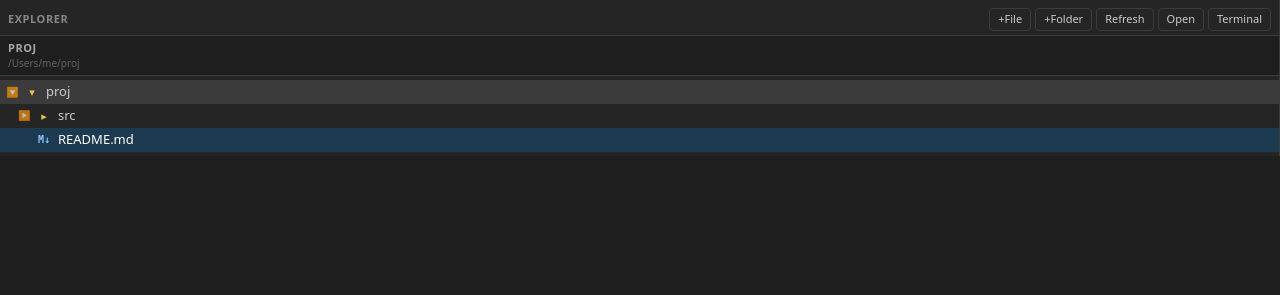
Sidebar create under selected folder + drag/drop › clicking a file selects its parent folder (so +File lands next to it)
The width and height of the screenshot is (1280, 295).
Click the element titled "proj/src" at (47, 115), box [18, 106, 76, 124]
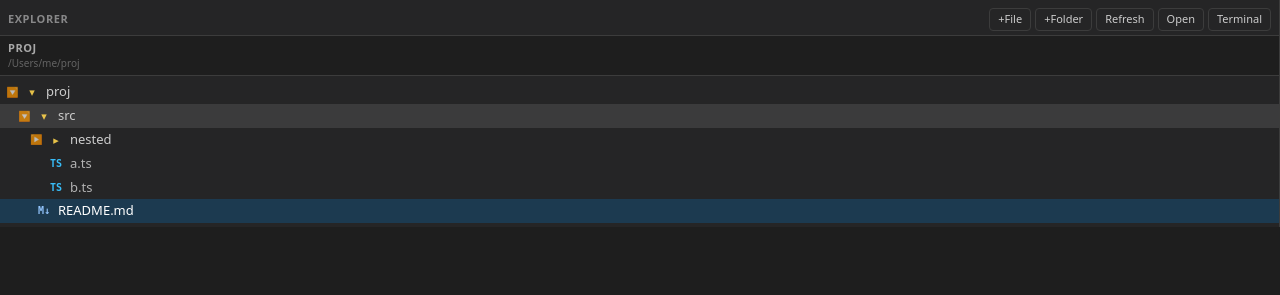
Click the element titled "proj/src/a.ts" at (71, 163), box [50, 154, 92, 172]
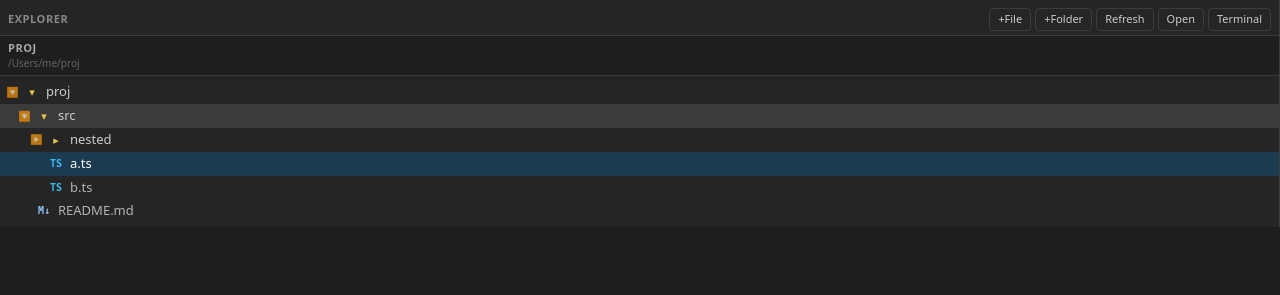
Click the button with test id "new-file" at (1010, 19), box [989, 8, 1031, 30]
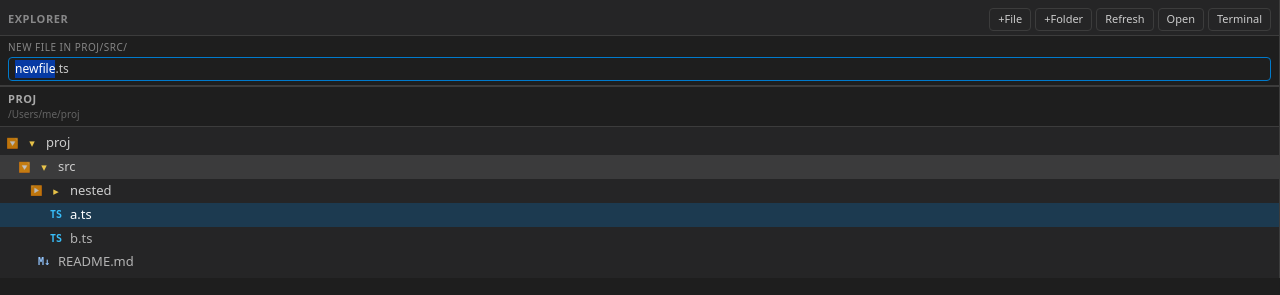
Now the text with test id "create-target" shows "proj/src/", box [8, 40, 128, 54]
